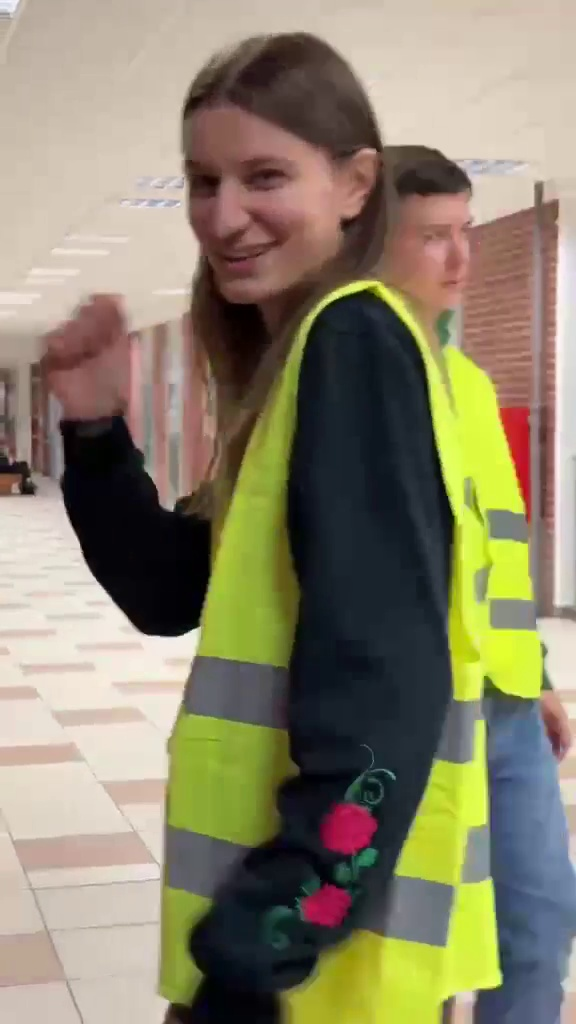vest: (140, 21, 478, 994)
